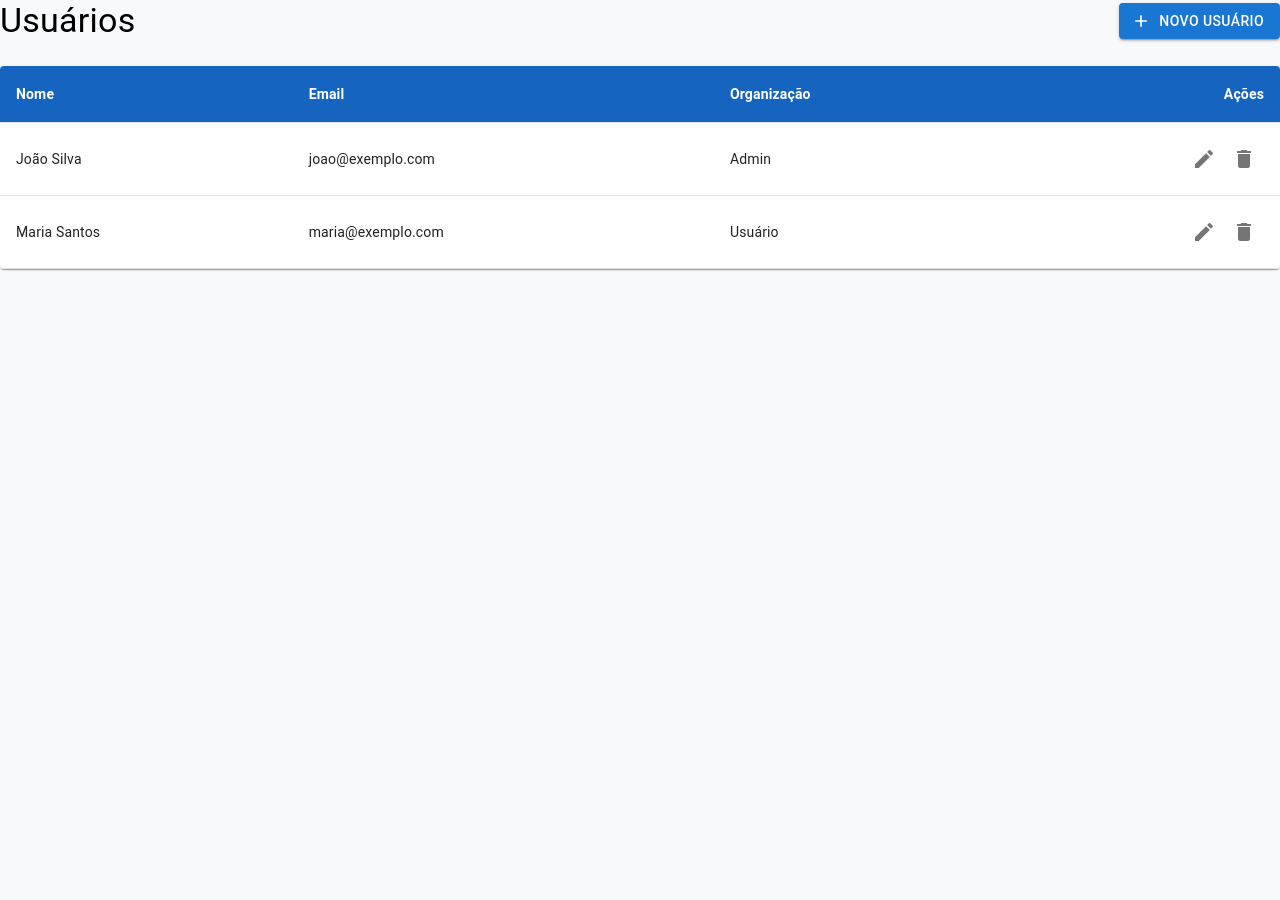
ADMIN - Users CRUD › deve criar um novo usuário com sucesso
Expected: the text "João Silva" is shown, [0,122,293,196]
// Abre o diálogo de criação
Click the button "Novo Usuário" at (1200, 21), box [1119,3,1279,39]
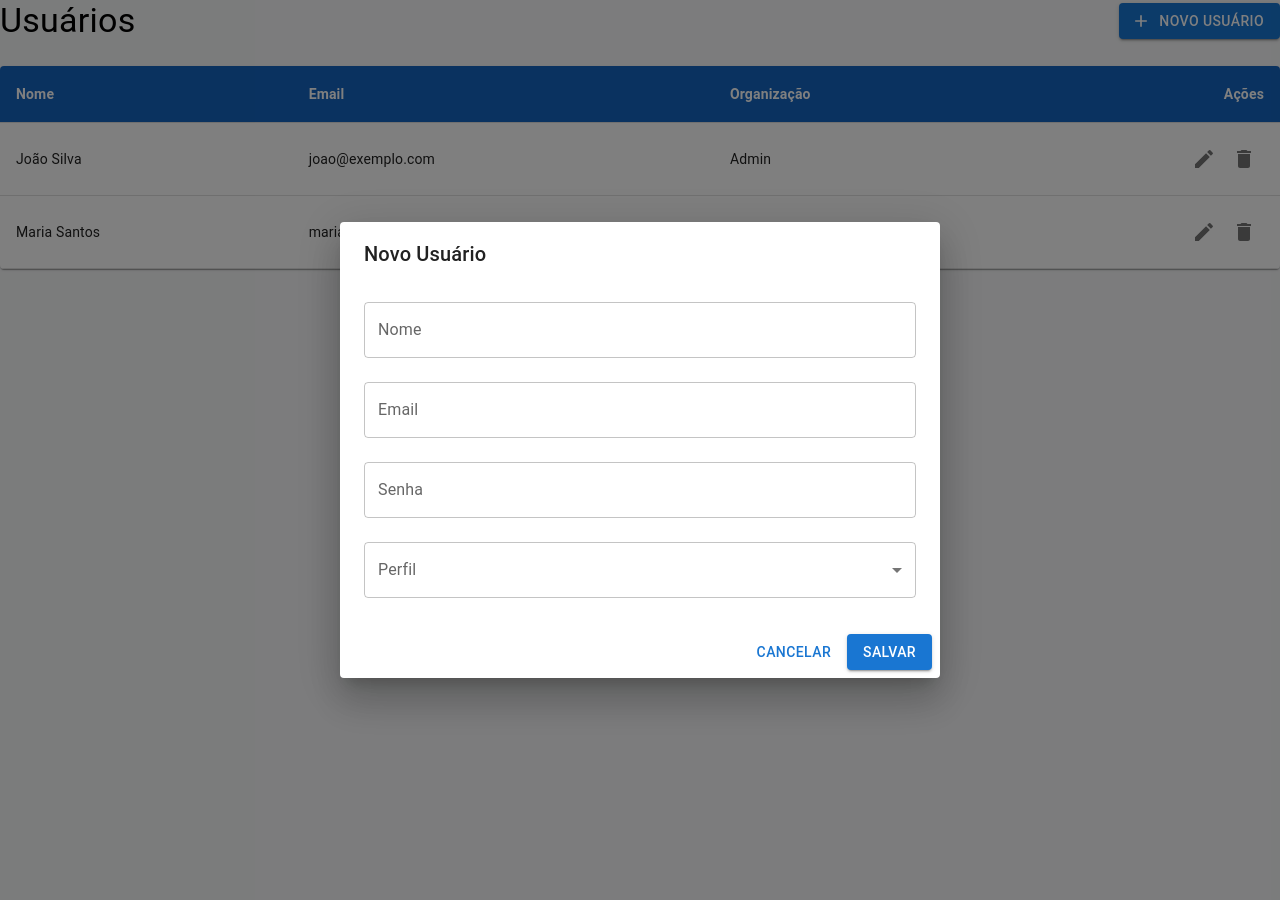
Type "Novo Usuário" into the field labelled "Nome" at (640, 330), box [364,302,916,358]
Type "novo@exemplo.com" into the field labelled "Email" at (640, 410), box [364,382,916,438]
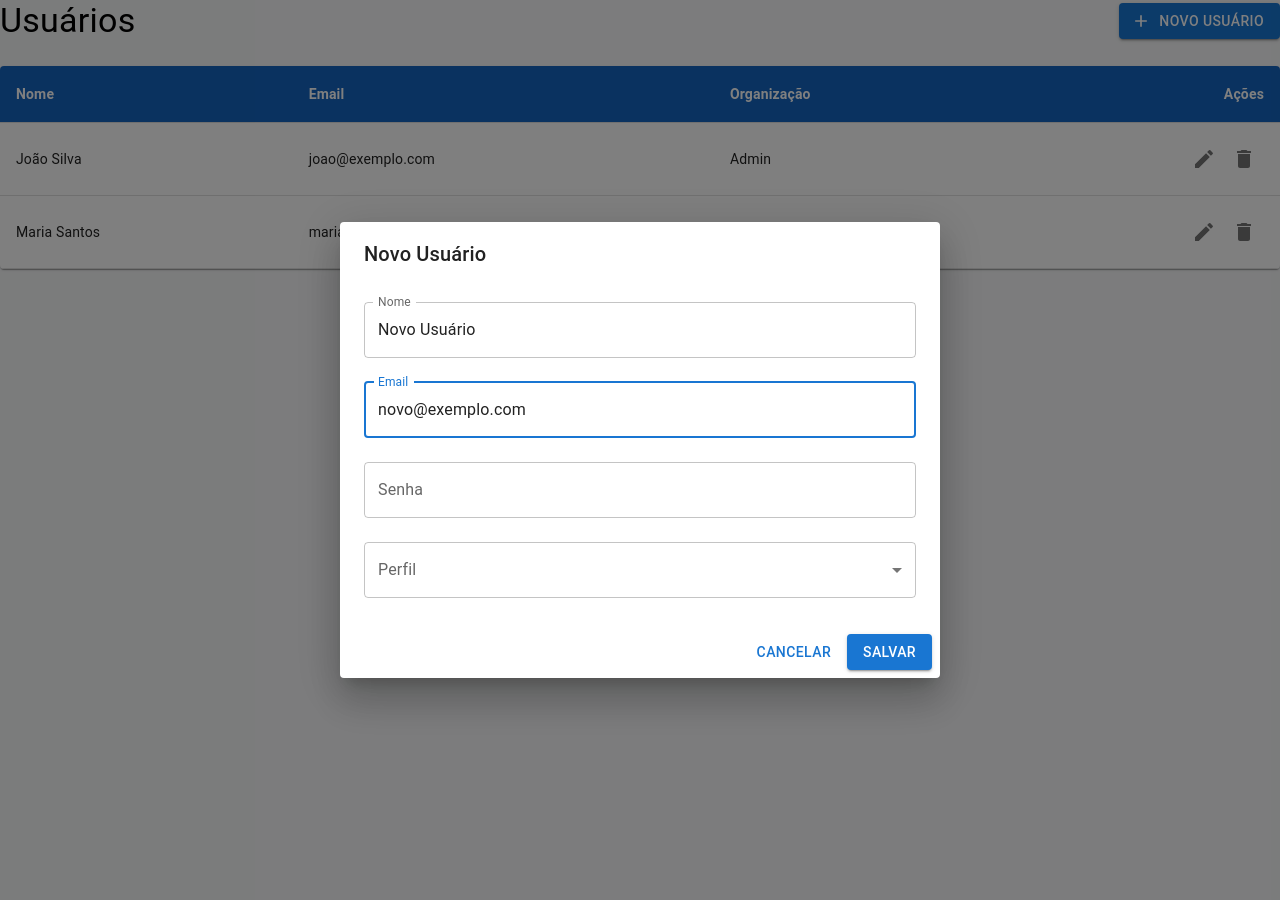
Type "123456" into the password field labelled "Senha" at (640, 490), box [364,462,916,518]
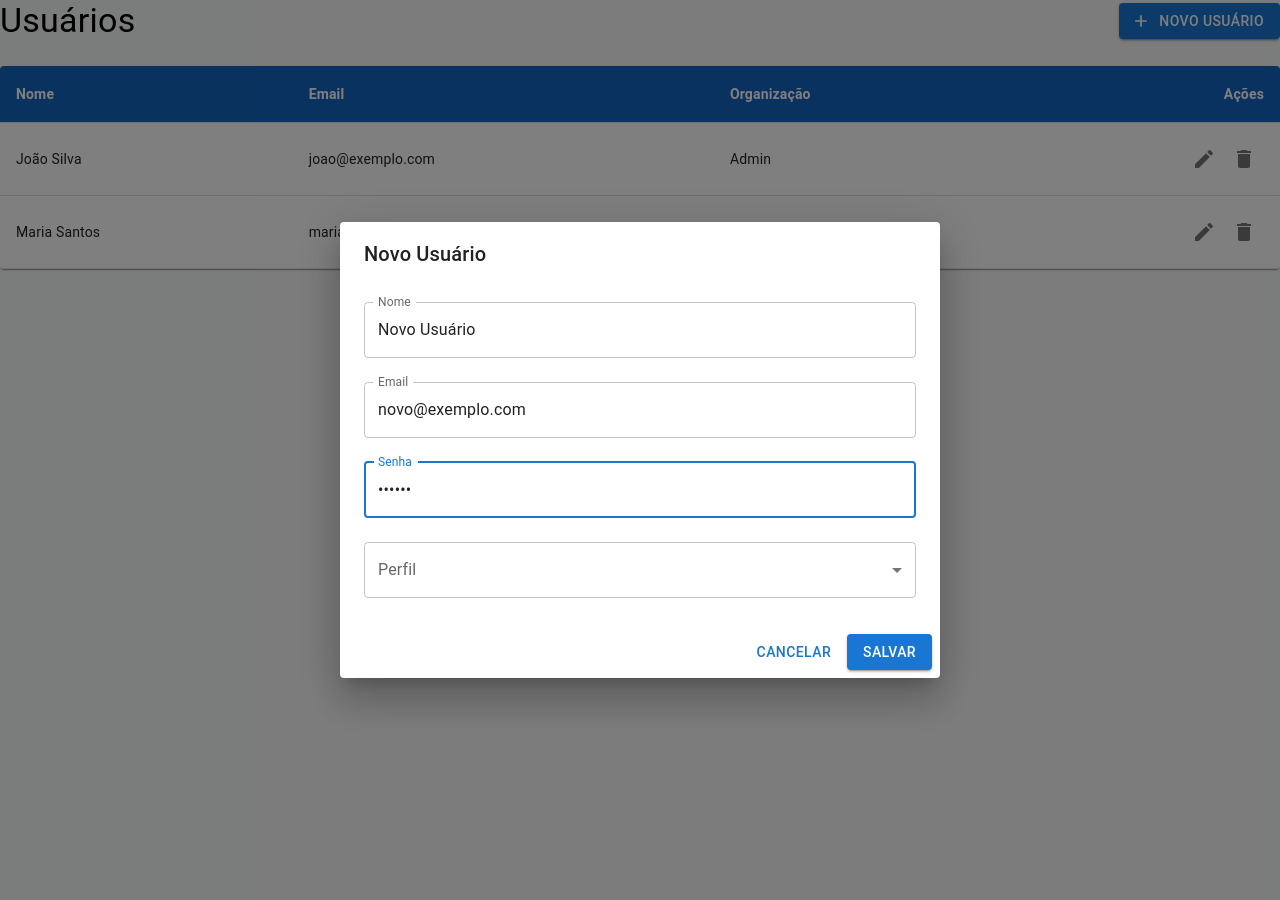
// Seleciona o perfil Admin
Click the dropdown named "perfil" at (640, 570), box [364,542,916,598]
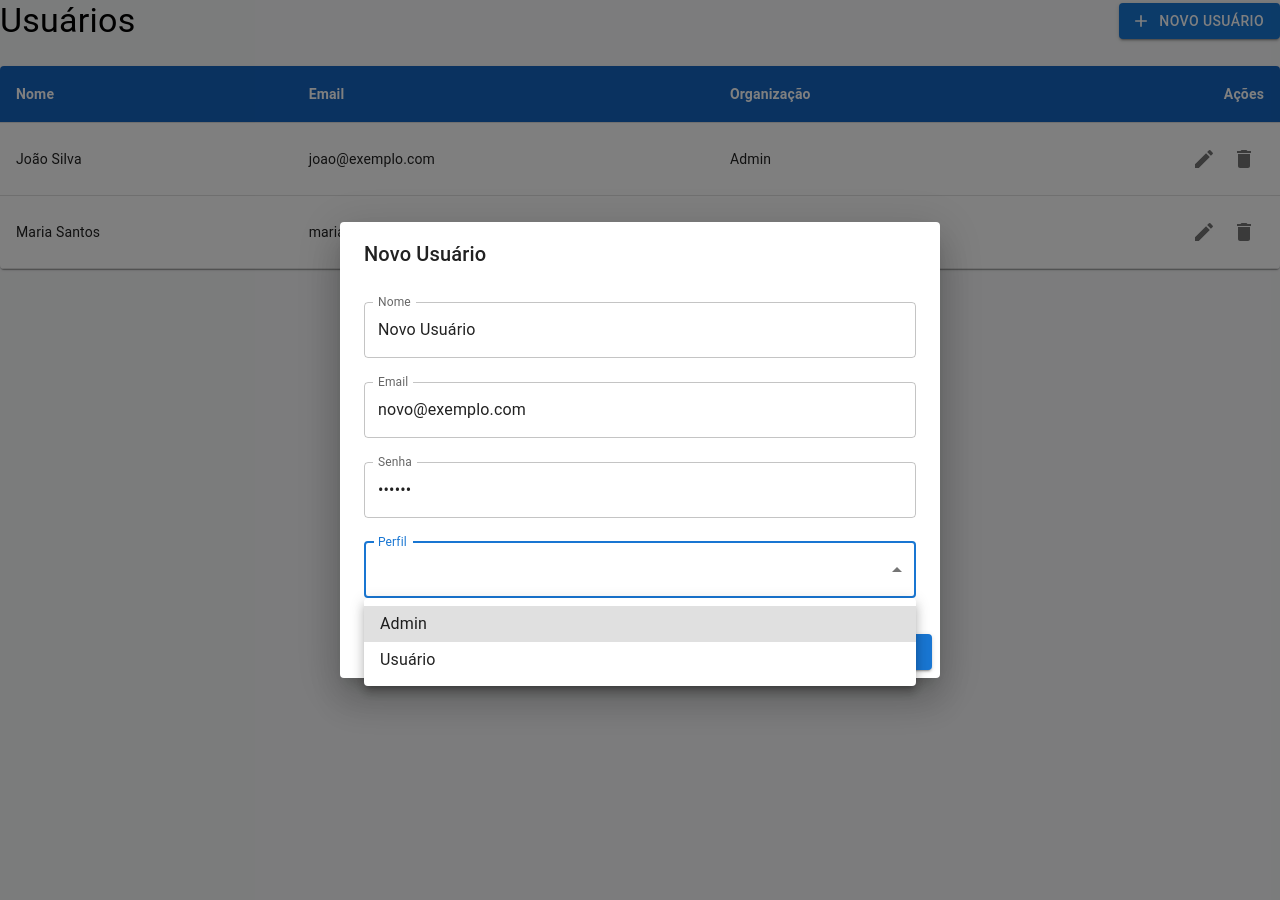
Click the option "Admin" at (403, 624), box [364,606,916,642]
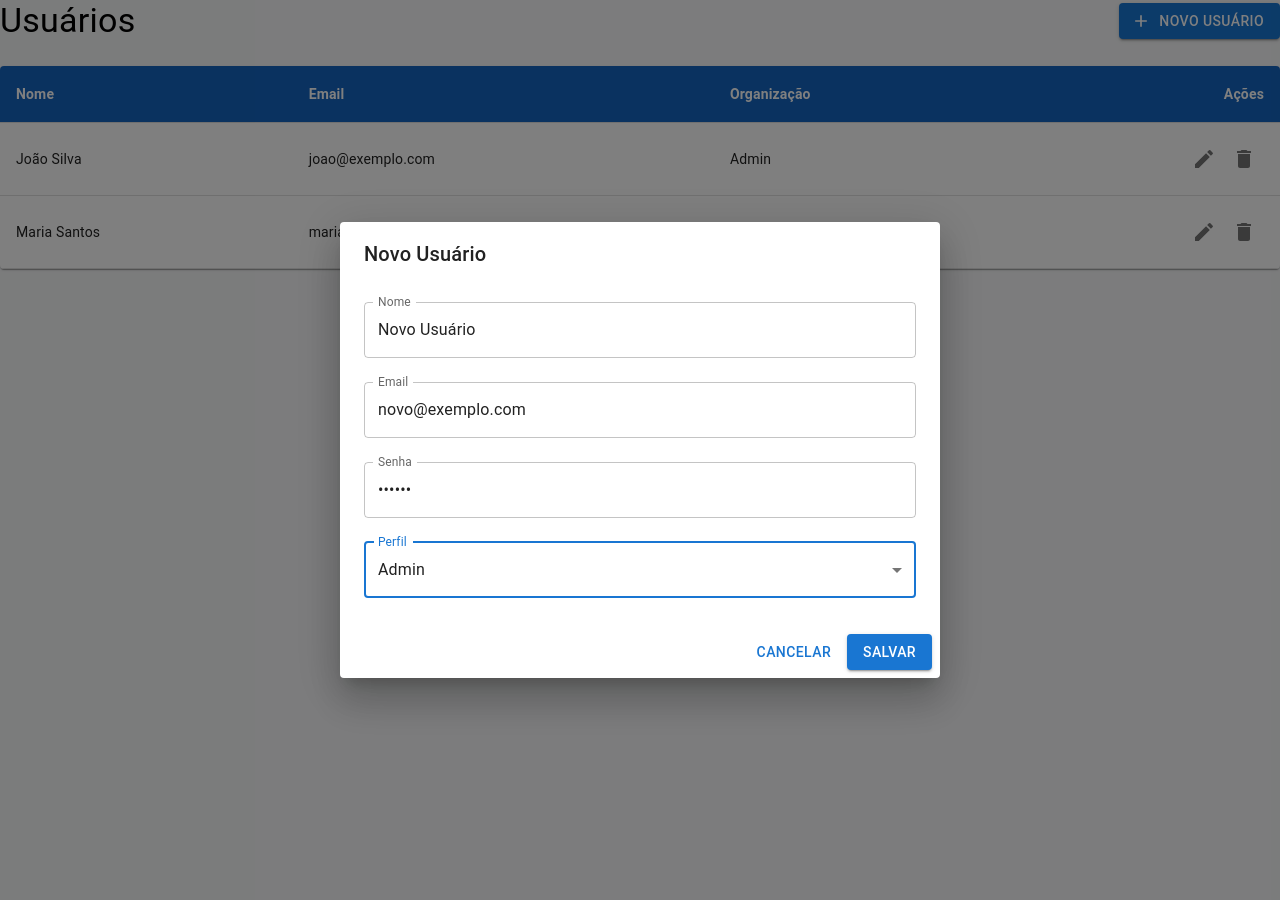
// Salva o formulário
Click the button "Salvar" at (890, 652), box [847,634,932,670]
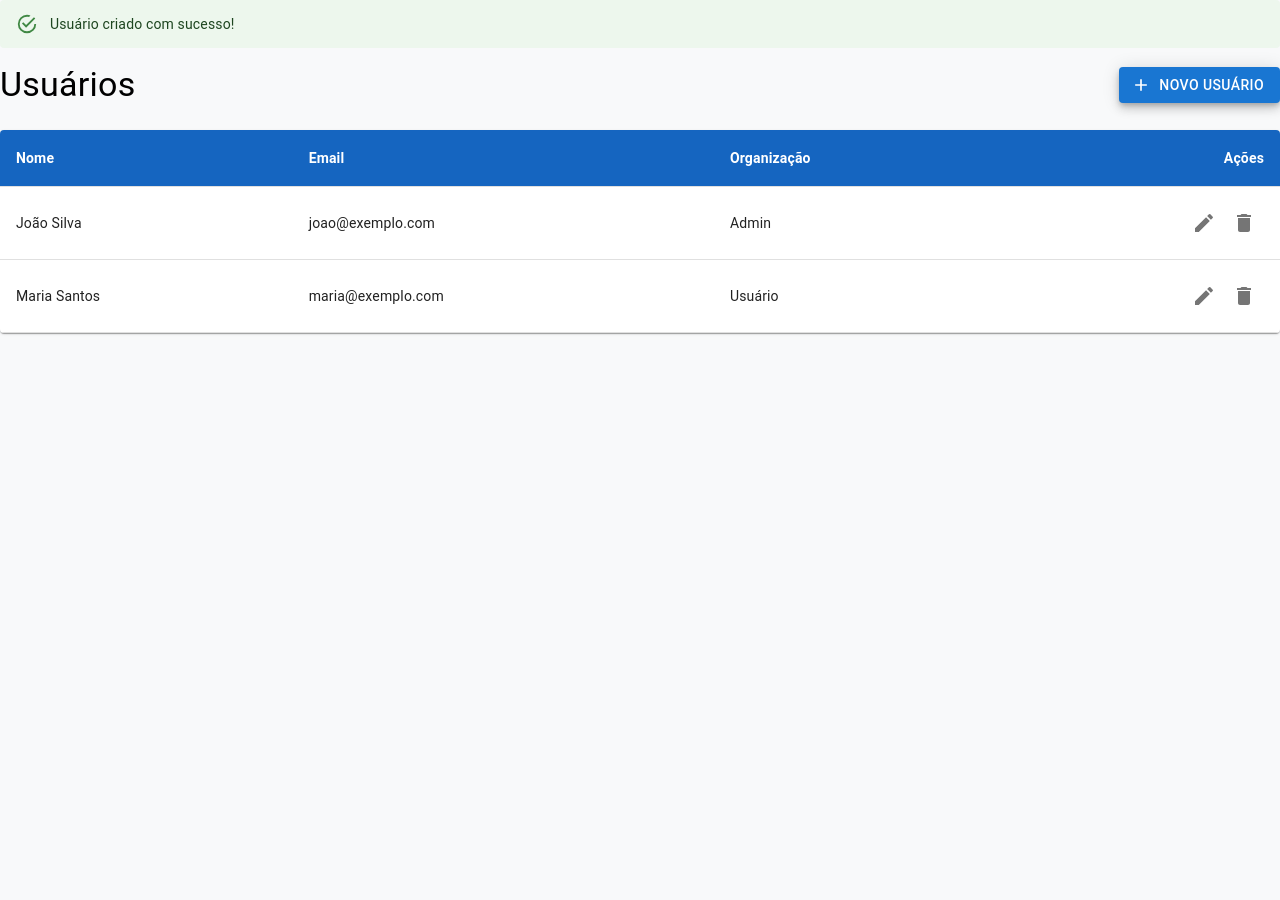
Now the dialog is gone
